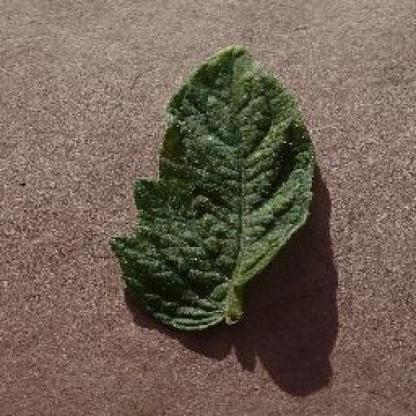Tomato_Spider_Mites: (109, 46, 313, 325)
